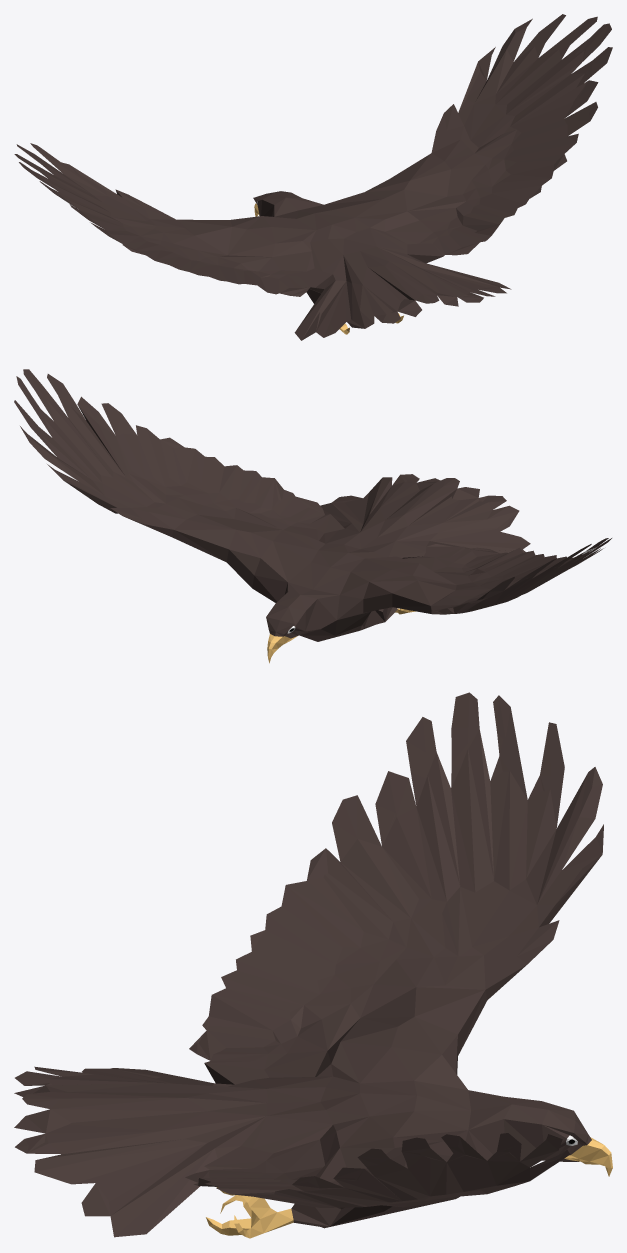
File: adlerUp03.dae
3 renders of one model, top to bottom at view 1: azimuth 30°, elevation 25°; view 2: azimuth 150°, elevation 25°; view 3: azimuth 270°, elevation 25°, orthographic. The views are drawn at different scales.
Parts seen in each view (by area): view 1: SketchUp (×4); view 2: SketchUp (×4); view 3: SketchUp (×7).
Part boxes in pixels (left/top/right/bottom): SketchUp (×4): left=14, top=14, right=612, bottom=340; SketchUp (×4): left=14, top=369, right=611, bottom=641; SketchUp (×7): left=14, top=692, right=612, bottom=1238.
Size of the model in its own units: 1288 by 706 by 428.
